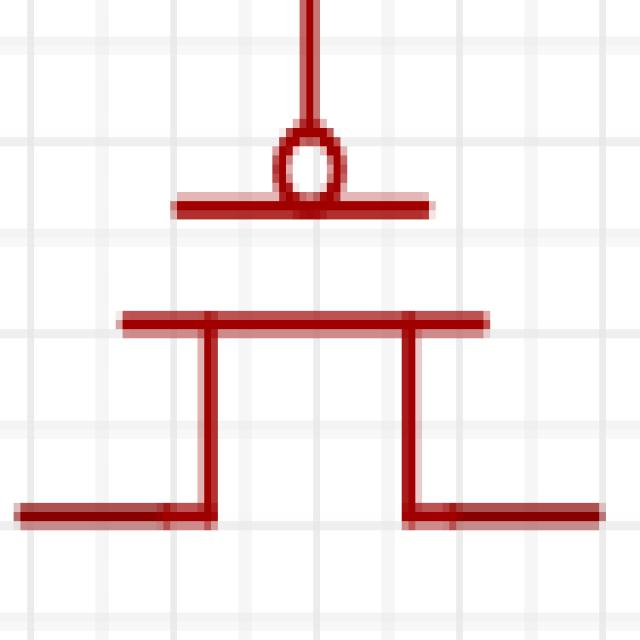pmos: (76, 41, 561, 640)
